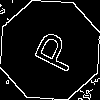P: (25, 25, 80, 75)
